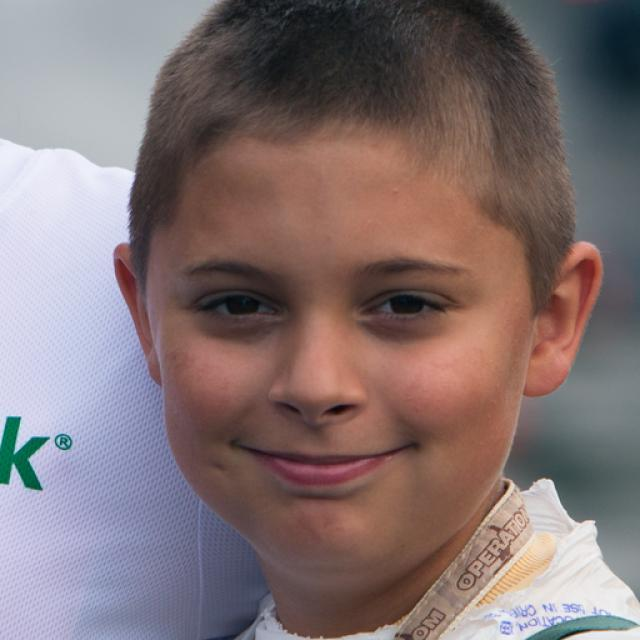happy: (152, 94, 528, 586)
